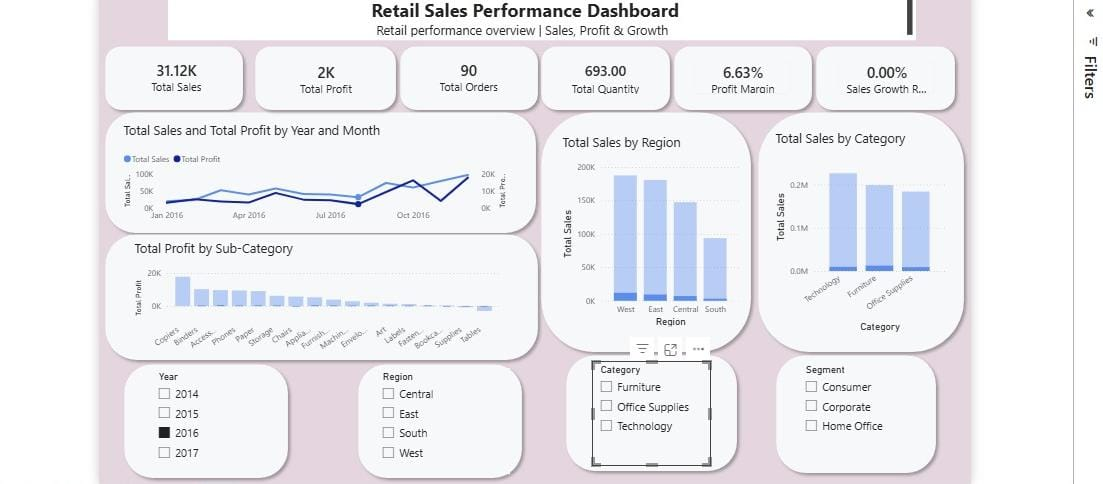

What the dashboard file says about the page in this screenshot:
{"tool":"powerbi","page":{"name":"Page 1","canvas":[1280,720],"ordinal":0},"visuals":[{"type":"shape","box":[0,67.6,220.4,111.7],"z":0},{"type":"shape","box":[433.5,67.6,220.4,111.7],"z":1000},{"type":"shape","box":[640.7,67.6,207.2,111.7],"z":2000},{"type":"shape","box":[836.1,67.6,220.4,111.7],"z":3000},{"type":"shape","box":[1044.7,67.6,221.9,111.7],"z":4000},{"type":"shape","box":[0,164.6,650.9,195.4],"z":5000},{"type":"shape","box":[959.5,164.6,320.3,370.3],"z":6000},{"type":"shape","box":[0,343.8,653.9,202.8],"z":7000},{"type":"shape","box":[640.7,164.6,326.2,370.3],"z":8000},{"type":"shape","box":[27.9,534.9,258.6,185.1],"z":9000},{"type":"shape","box":[371.8,534.9,258.6,185.1],"z":10000},{"type":"shape","box":[677.4,521.6,268.9,188.1],"z":11000},{"type":"shape","box":[986,521.6,252.7,191],"z":12000},{"type":"shape","box":[220.4,67.6,224.8,111.7],"z":13000},{"type":"cardVisual","fields":{"Data":["Sample - Superstore.Total Profit"]},"box":[263,86.7,141.1,77.9],"z":14000},{"type":"cardVisual","fields":{"Data":["Sample - Superstore.Total Orders"]},"box":[468.7,80.8,149.9,83.8],"z":15000},{"type":"cardVisual","fields":{"Data":["Sample - Superstore.Total Quantity"]},"box":[665.6,83.8,157.2,80.8],"z":16000},{"type":"cardVisual","fields":{"Data":["Sample - Superstore.Profit Margin"]},"box":[856.7,83.8,177.8,80.8],"z":17000},{"type":"cardVisual","fields":{"Data":["Sample - Superstore.Sales Growth Rate"]},"box":[1068.2,83.8,177.8,80.8],"z":18000},{"type":"lineChart","fields":{"Y":["Sample - Superstore.Total Sales"],"Y2":["Sample - Superstore.Total Profit"],"Category":["Sample - Superstore.Order Date.Variation.Date Hierarchy.Year","Sample - Superstore.Order Date.Variation.Date Hierarchy.Month"]},"box":[30.9,186.6,573.1,157.2],"z":19000},{"type":"clusteredColumnChart","fields":{"Category":["Sample - Superstore.Region"],"Y":["Sample - Superstore.Total Sales"]},"box":[675.9,204.2,270.4,289.5],"z":20000},{"type":"clusteredColumnChart","fields":{"Category":["Sample - Superstore.Category"],"Y":["Sample - Superstore.Total Sales"]},"box":[988.9,198.4,260.1,302.7],"z":21000},{"type":"clusteredColumnChart","fields":{"Category":["Sample - Superstore.Sub-Category"],"Y":["Sample - Superstore.Total Profit"]},"box":[47,360,546.6,174.9],"z":22000},{"type":"slicer","fields":{"Values":["Sample - Superstore.Region"]},"box":[404.1,549.6,199.8,155.8],"z":23000},{"type":"slicer","fields":{"Values":["Sample - Superstore.Category"]},"box":[724.4,539.3,174.9,154.3],"z":24000},{"type":"slicer","fields":{"Values":["Sample - Superstore.Segment"]},"box":[1025.6,539.3,173.4,155.8],"z":25000},{"type":"slicer","fields":{"Values":["Sample - Superstore.Order Date.Variation.Date Hierarchy.Year"]},"box":[74.9,549.6,173.4,155.8],"z":26000},{"type":"textbox","box":[101.4,0,1099.1,67.6],"z":27000},{"type":"cardVisual","fields":{"Data":["Sample - Superstore.Total Sales"]},"box":[44.1,80.8,139.6,82.3],"z":28000}]}

Visuals, with their boxes on the page's 1280x720 design canvas (x1, y1, x2, y2). These are canvas units, not pixel positions in the 1103x484 screenshot, which may show the page scaled, cropped or inside an application window:
shape: detection(0, 68, 220, 179)
shape: detection(434, 68, 654, 179)
shape: detection(641, 68, 848, 179)
shape: detection(836, 68, 1056, 179)
shape: detection(1045, 68, 1267, 179)
shape: detection(0, 165, 651, 360)
shape: detection(960, 165, 1280, 535)
shape: detection(0, 344, 654, 547)
shape: detection(641, 165, 967, 535)
shape: detection(28, 535, 286, 720)
shape: detection(372, 535, 630, 720)
shape: detection(677, 522, 946, 710)
shape: detection(986, 522, 1239, 713)
shape: detection(220, 68, 445, 179)
cardVisual - Sample - Superstore.Total Profit: detection(263, 87, 404, 165)
cardVisual - Sample - Superstore.Total Orders: detection(469, 81, 619, 165)
cardVisual - Sample - Superstore.Total Quantity: detection(666, 84, 823, 165)
cardVisual - Sample - Superstore.Profit Margin: detection(857, 84, 1034, 165)
cardVisual - Sample - Superstore.Sales Growth Rate: detection(1068, 84, 1246, 165)
lineChart - Sample - Superstore.Total Sales x Sample - Superstore.Total Profit: detection(31, 187, 604, 344)
clusteredColumnChart - Sample - Superstore.Region x Sample - Superstore.Total Sales: detection(676, 204, 946, 494)
clusteredColumnChart - Sample - Superstore.Category x Sample - Superstore.Total Sales: detection(989, 198, 1249, 501)
clusteredColumnChart - Sample - Superstore.Sub-Category x Sample - Superstore.Total Profit: detection(47, 360, 594, 535)
slicer - Sample - Superstore.Region: detection(404, 550, 604, 705)
slicer - Sample - Superstore.Category: detection(724, 539, 899, 694)
slicer - Sample - Superstore.Segment: detection(1026, 539, 1199, 695)
slicer - Sample - Superstore.Order Date.Variation.Date Hierarchy.Year: detection(75, 550, 248, 705)
textbox: detection(101, 0, 1200, 68)
cardVisual - Sample - Superstore.Total Sales: detection(44, 81, 184, 163)
